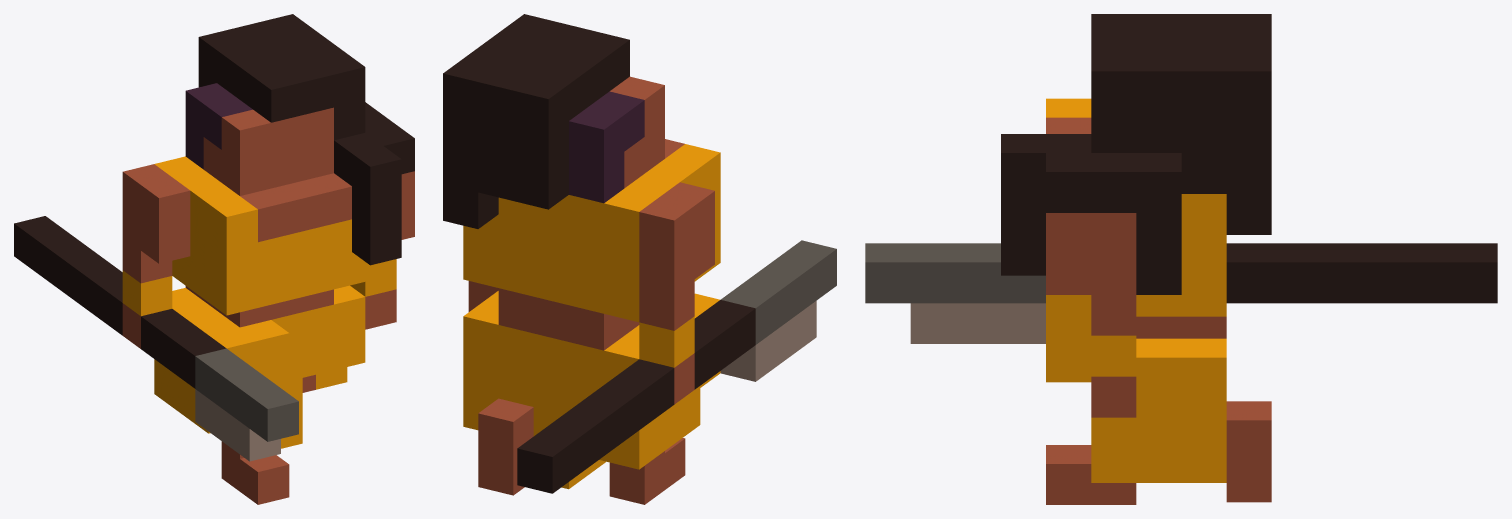
File: amazon_walk_0.obj
The picture shows the model from 3 angles, left to right: view 1: azimuth 30°, elevation 25°; view 2: azimuth 150°, elevation 25°; view 3: azimuth 270°, elevation 25°; orthographic projection. The views are drawn at different scales.
Bounding box in the file's own units: 0.7 × 1.2 × 1.4.
Materials: 1 (1 with a texture image).
